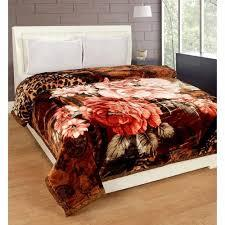bed: (13, 26, 217, 202)
blanket: (16, 65, 216, 213)
lamp: (135, 5, 154, 62)
pillow: (25, 35, 81, 73), (86, 32, 131, 67)
tv: (176, 53, 216, 94)
window: (162, 1, 218, 68)
